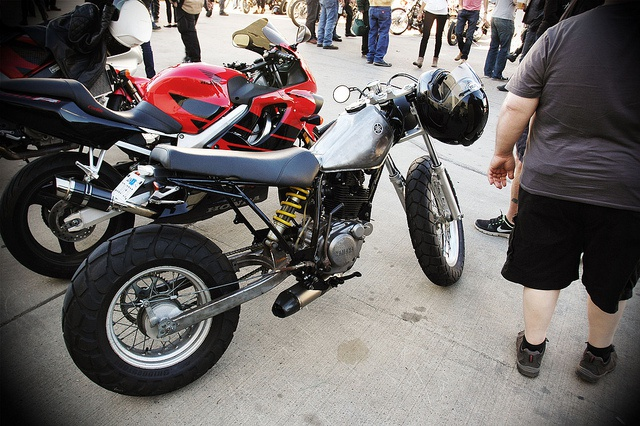non-vehicle: (43, 70, 467, 394), (0, 15, 336, 280), (446, 3, 486, 46), (388, 0, 424, 34), (289, 0, 308, 27)
